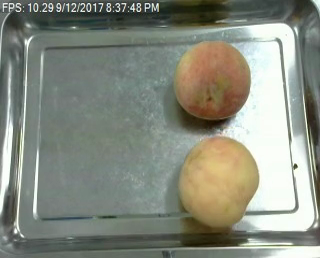Peach: (178, 135, 259, 229), (173, 38, 250, 118)
